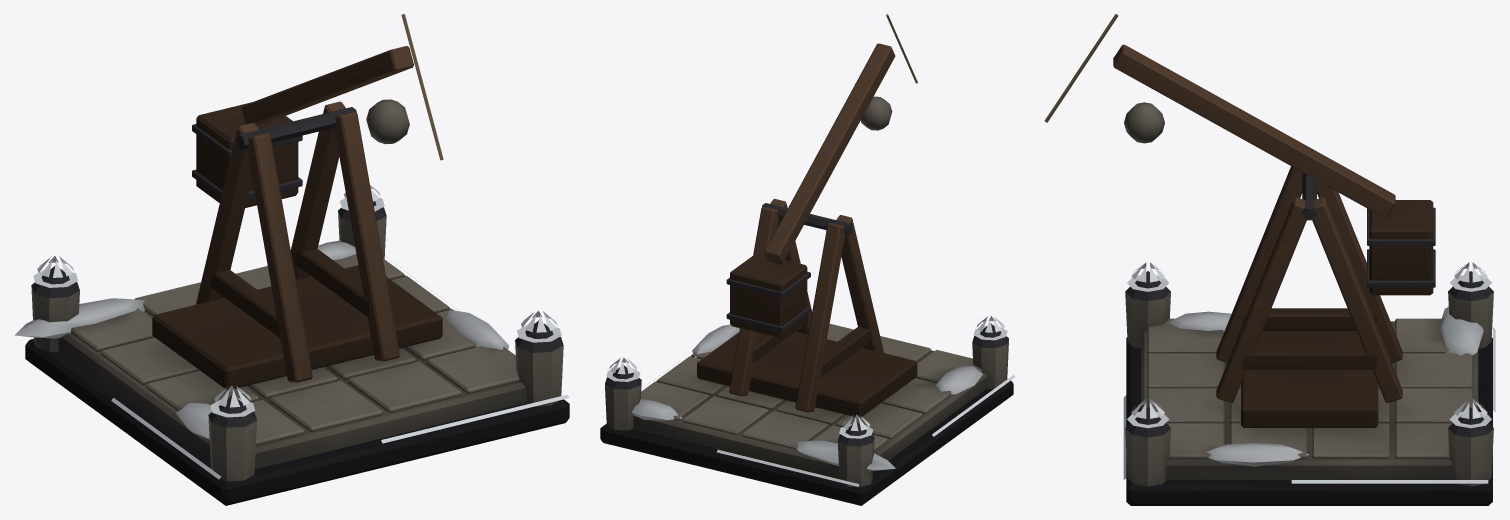
File: alliance-3.glb
3 views of the same model, side by side, from view 1: azimuth 30°, elevation 25°; view 2: azimuth 150°, elevation 25°; view 3: azimuth 270°, elevation 25° (orthographic). The views are drawn at different scales.
Parts seen in each view (by area): view 1: aubeval_3_architecture, Tourelle_peint; view 2: aubeval_3_architecture, Tourelle_peint; view 3: aubeval_3_architecture, Tourelle_peint.
Part boxes in pixels (x1,y1,x2,y2): aubeval_3_architecture: (15,185,569,505); Tourelle_peint: (152,14,443,389); aubeval_3_architecture: (600,316,1015,505); Tourelle_peint: (697,14,917,417); aubeval_3_architecture: (1123,262,1495,505); Tourelle_peint: (1044,14,1435,427).
Bounding box in the file's own units: 0.8655 × 1 × 0.9836.
